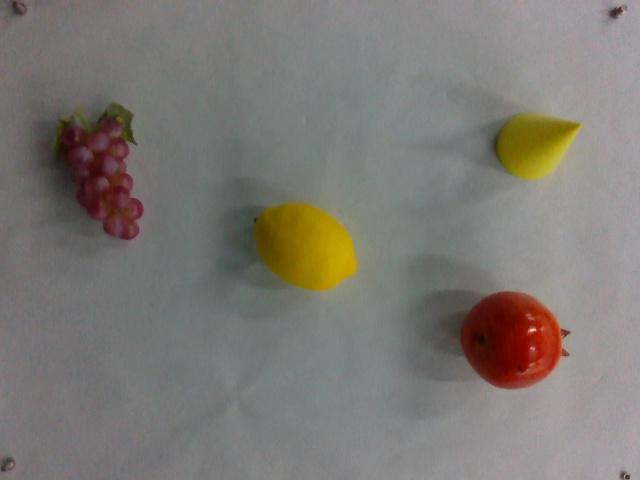cone: (494, 110, 581, 181)
grape: (54, 105, 144, 239)
lemon: (247, 197, 361, 291)
pomegranate: (459, 287, 574, 391)
